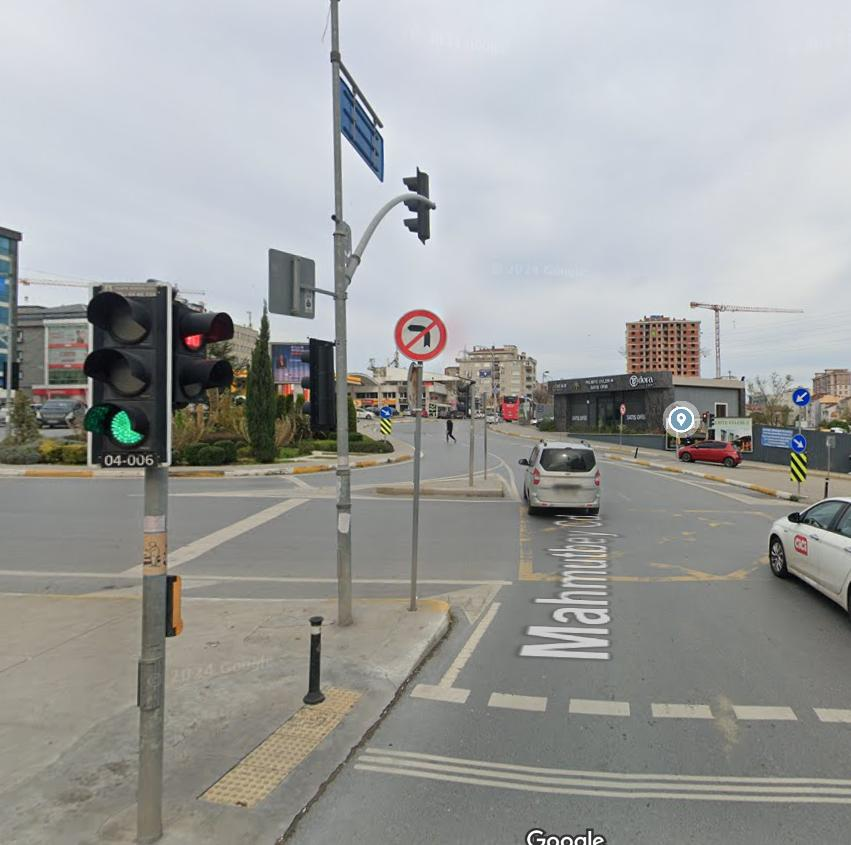greenlight: (74, 271, 174, 465)
leftturnsareforbidden: (390, 310, 449, 369)
